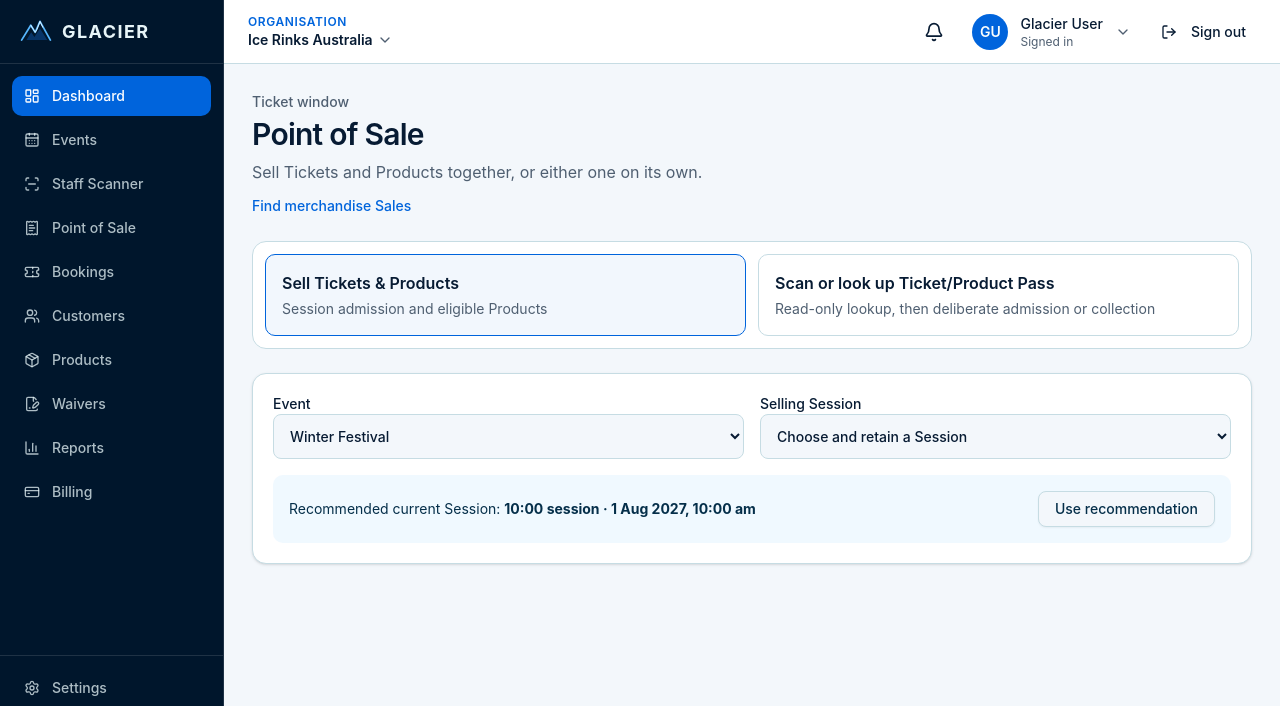
it: PosPage › shows a Rule-required Product in the order before payment review
Click the button "Use recommendation": (1126,509) [1038,491,1215,527]
(page scrolled)
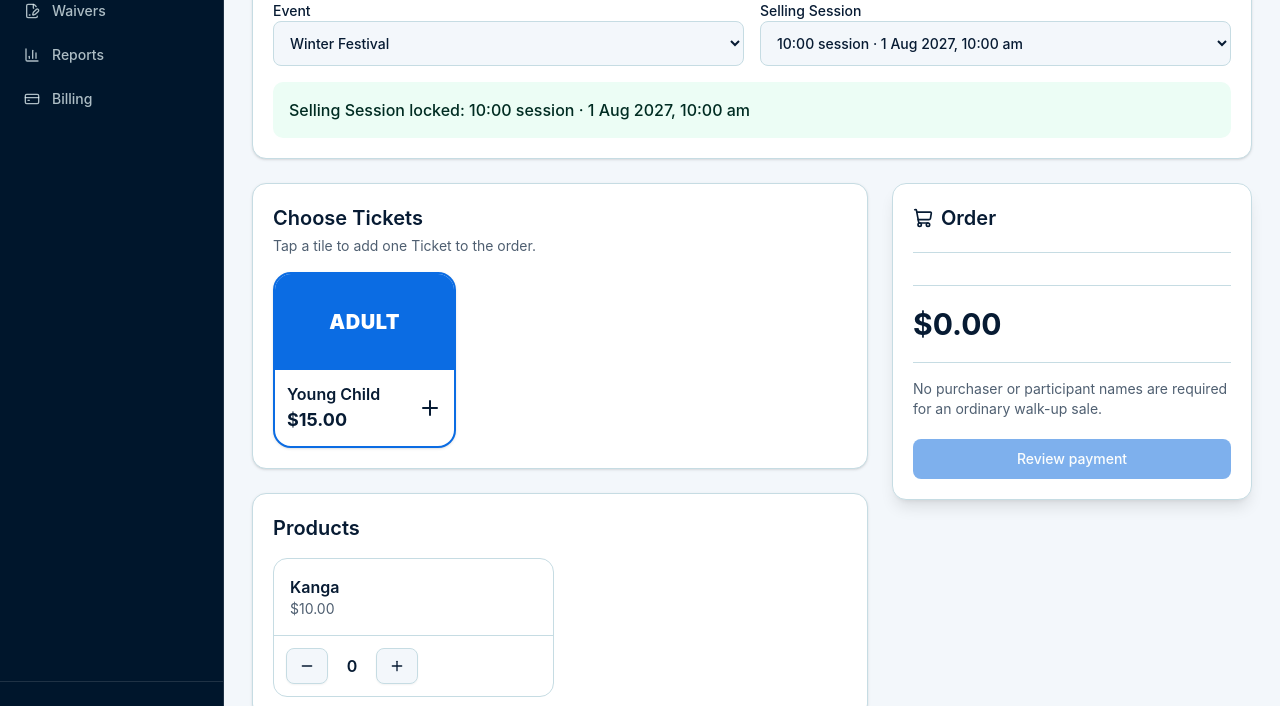
Click the button with aria-label "Add Ticket Young Child": (365,360) [273,272,456,448]
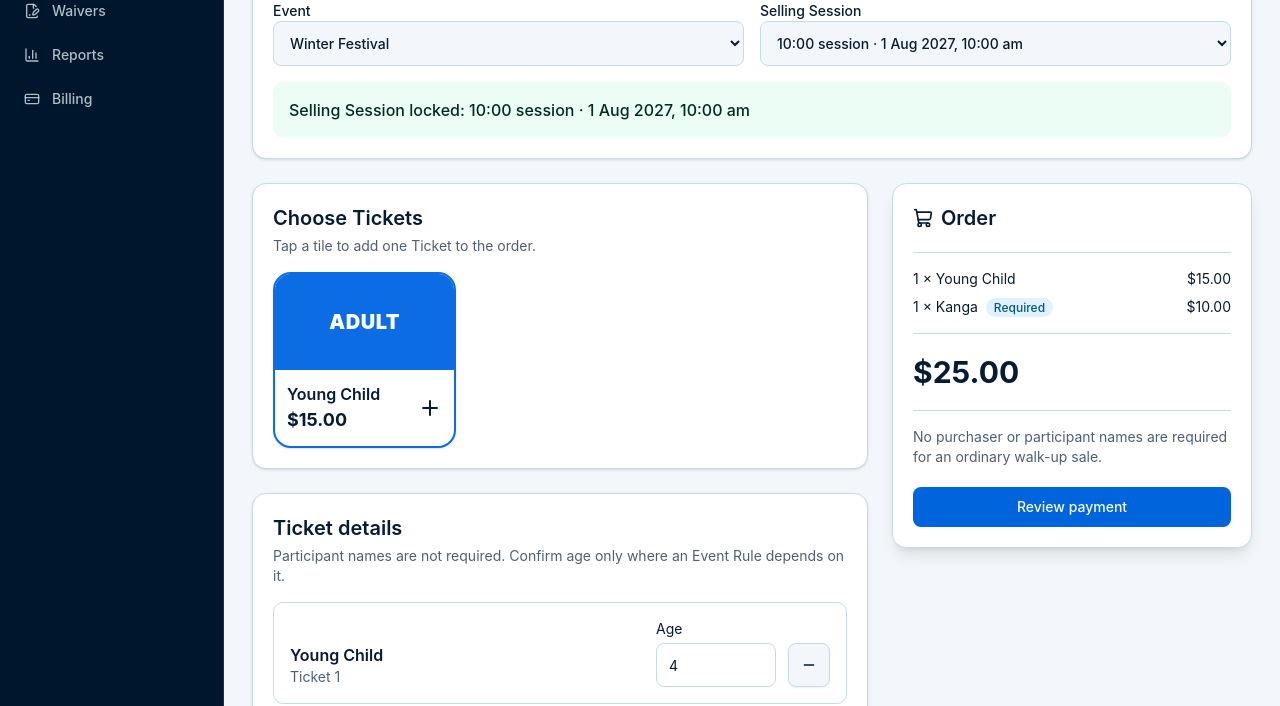
Result: the text "1 × Kanga" is shown at [913,297,1053,317]
Result: the text "Required" is shown at [986,298,1053,317]
Result: the text "$25.00" is shown at [913,354,1019,390]
